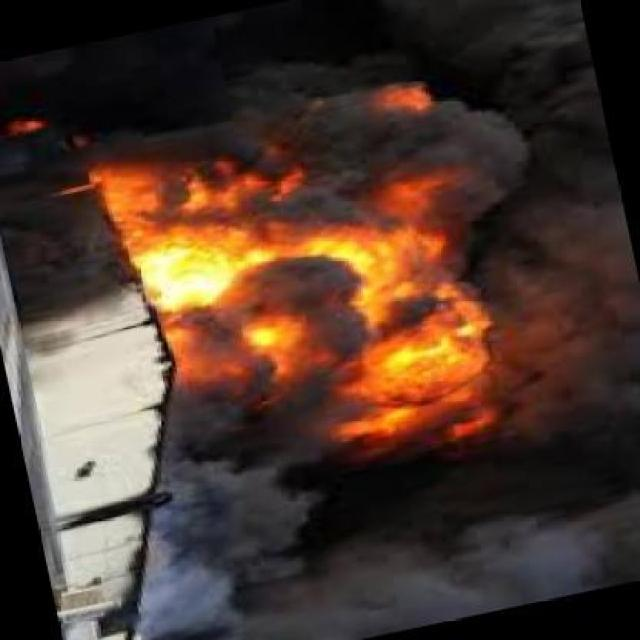Fire: (102, 152, 494, 438)
Smoke: (0, 12, 586, 146), (502, 157, 640, 575), (163, 448, 483, 611)
